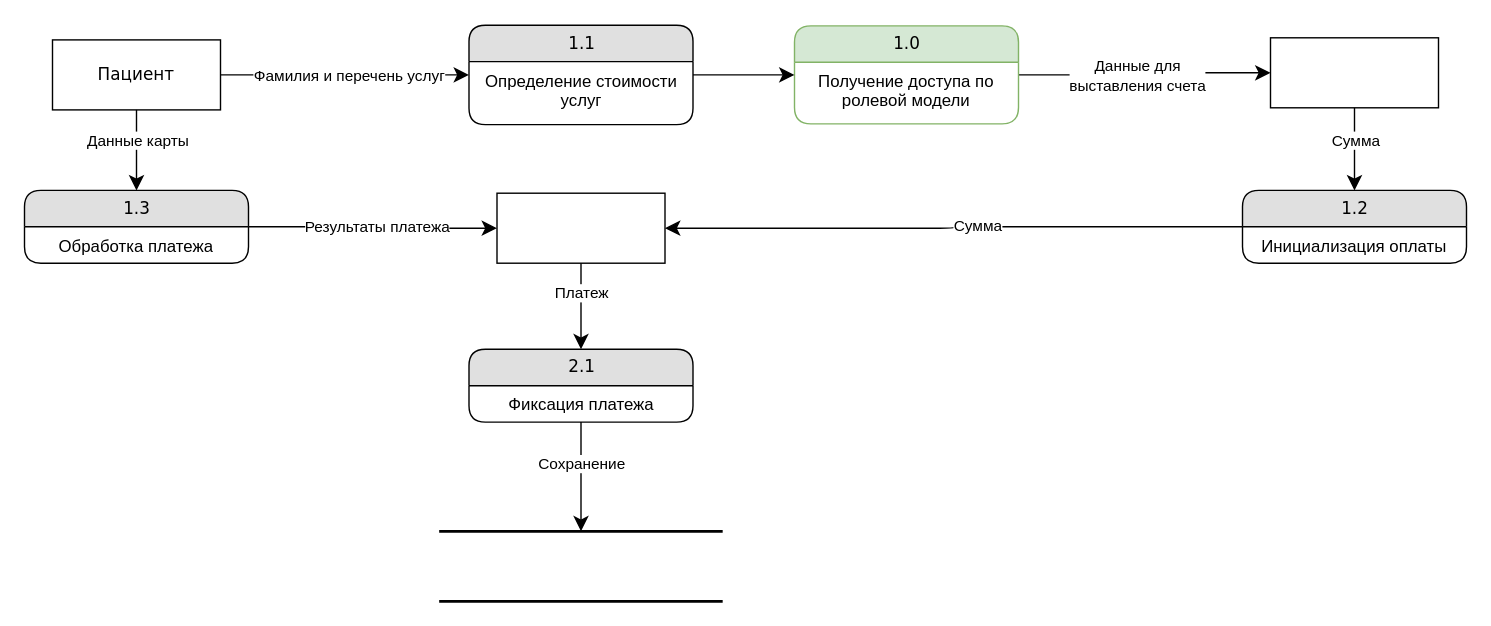
The diagram is 1491 pixels wide and 626 high, and some of its shapes have lost their labels. Here are the shapes that lost their labels. From the top down, the box of each, then its label:
(1269, 36, 1438, 108): Кассир
(496, 192, 665, 263): ККМ
(437, 529, 723, 602): 1C Бухгалтерия предприятия
